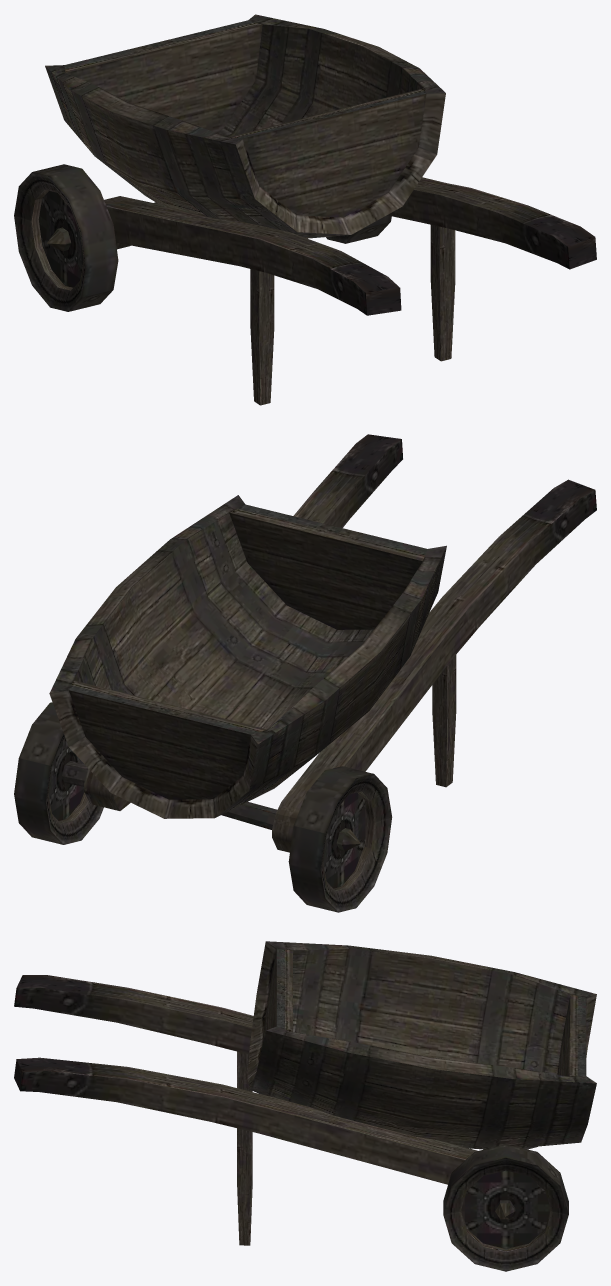
File: eso_gu3_wheelbarrel-transformed.glb
3 renders of one model, top to bottom at view 1: azimuth 30°, elevation 25°; view 2: azimuth 150°, elevation 25°; view 3: azimuth 270°, elevation 25°, orthographic. The views are drawn at different scales.
Parts seen in each view (by area): view 1: default; view 2: default; view 3: default.
Boxes of the visible parts, x1,y1,x2,y2 form: default: [14, 14, 596, 405]; default: [14, 434, 596, 912]; default: [14, 941, 596, 1271].
Bounding box in the file's own units: 1.12 × 0.8515 × 2.05.
Materials: 1 (1 with a texture image).
